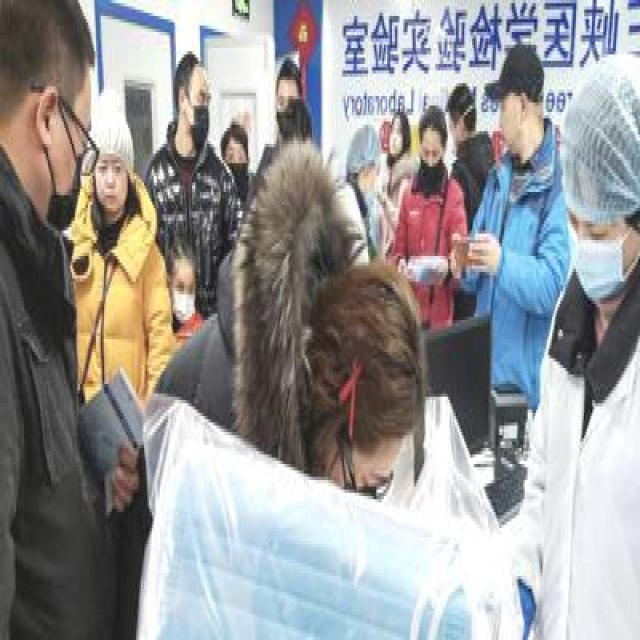hairnet: (420, 109, 444, 189)
